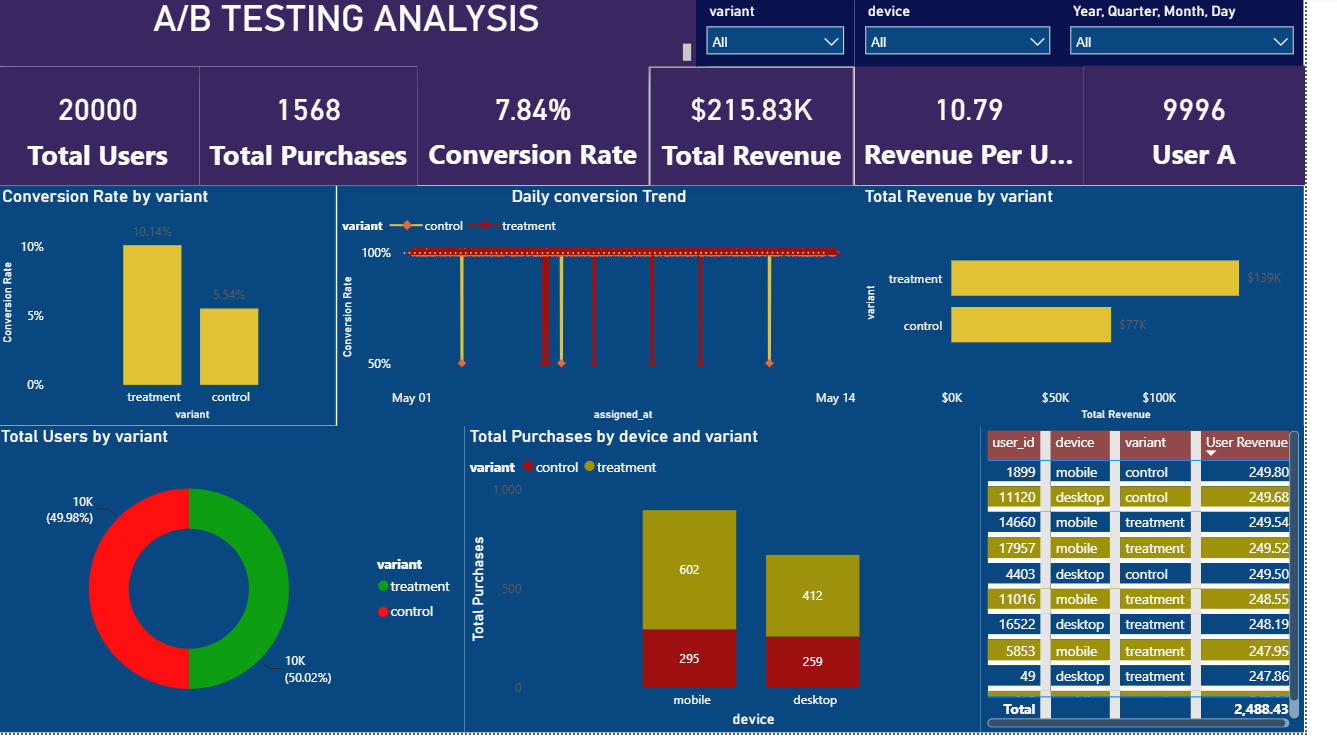

The page's visual inventory and layout, read from the dashboard file:
{"tool":"powerbi","page":{"name":"Page 1","canvas":[1280,720],"ordinal":0},"visuals":[{"type":"textbox","title":"A/B TESTING ANALYSIS ","box":[0,0,685.2,67.6],"z":0},{"type":"card","fields":{"Values":["Measure.Total Users"]},"box":[0,68.5,199.3,116.2],"z":1000},{"type":"card","fields":{"Values":["Measure.Total Purchases"]},"box":[199.3,68.5,212.8,116.2],"z":2000},{"type":"card","fields":{"Values":["Measure.Conversion Rate"]},"box":[412.6,67.8,226.5,116.9],"z":3000},{"type":"card","fields":{"Values":["Measure.Total Revenue"]},"box":[639.5,68.5,199.3,116.2],"z":4000},{"type":"card","fields":{"Values":["Measure.Revenue Per User"]},"box":[839.7,67.8,223.6,116.9],"z":5000},{"type":"slicer","fields":{"Values":["experiment.variant"]},"box":[685.2,0,154.8,67.6],"z":6000},{"type":"slicer","fields":{"Values":["event.device"]},"box":[840.1,0,201.1,67.6],"z":7000},{"type":"slicer","fields":{"Values":["event.timestamp.Variation.Date Hierarchy.Year","event.timestamp.Variation.Date Hierarchy.Quarter","event.timestamp.Variation.Date Hierarchy.Month","event.timestamp.Variation.Date Hierarchy.Day"]},"box":[1041.2,0,238.5,67.6],"z":8000},{"type":"card","fields":{"Values":["Measure.User A"]},"box":[1063.3,67.8,216.4,116.9],"z":9000},{"type":"clusteredColumnChart","fields":{"Y":["Measure.Conversion Rate"],"Category":["experiment.variant"]},"box":[1.2,184.6,331.4,234.8],"z":10000},{"type":"lineChart","title":"Daily conversion Trend","fields":{"Series":["experiment.variant"],"Category":["experiment.assigned_at"],"Y":["Measure.Conversion Rate"]},"box":[333.3,184.7,512.2,235.2],"z":11000},{"type":"clusteredBarChart","fields":{"Category":["experiment.variant"],"Y":["Measure.Total Revenue"]},"box":[845.5,184.7,434.3,235.2],"z":12000},{"type":"donutChart","fields":{"Category":["experiment.variant"],"Y":["Measure.Total Users"]},"box":[0,419.8,458.8,300.1],"z":13000},{"type":"columnChart","fields":{"Category":["event.device"],"Series":["experiment.variant"],"Y":["Measure.Total Purchases"]},"box":[458.8,419.8,505,300.1],"z":14000},{"type":"tableEx","fields":{"Values":["event.user_id","event.device","experiment.variant","Measure.User Revenue"]},"box":[963.8,419.8,316,300.1],"z":15000}]}

Visuals, with their boxes in screenshot pixels (x1, y1, x2, y2), scaled from the page's 1280x720 canvas onto the 1337x742 screenshot:
"A/B TESTING ANALYSIS " textbox: pyautogui.locateOnScreen(0, 0, 716, 70)
card - Measure.Total Users: pyautogui.locateOnScreen(0, 71, 208, 190)
card - Measure.Total Purchases: pyautogui.locateOnScreen(208, 71, 430, 190)
card - Measure.Conversion Rate: pyautogui.locateOnScreen(431, 70, 668, 190)
card - Measure.Total Revenue: pyautogui.locateOnScreen(668, 71, 876, 190)
card - Measure.Revenue Per User: pyautogui.locateOnScreen(877, 70, 1111, 190)
slicer - experiment.variant: pyautogui.locateOnScreen(716, 0, 877, 70)
slicer - event.device: pyautogui.locateOnScreen(878, 0, 1088, 70)
slicer - event.timestamp.Variation.Date Hierarchy.Year x event.timestamp.Variation.Date Hierarchy.Quarter: pyautogui.locateOnScreen(1088, 0, 1336, 70)
card - Measure.User A: pyautogui.locateOnScreen(1111, 70, 1336, 190)
clusteredColumnChart - Measure.Conversion Rate x experiment.variant: pyautogui.locateOnScreen(1, 190, 347, 432)
"Daily conversion Trend" lineChart: pyautogui.locateOnScreen(348, 190, 883, 433)
clusteredBarChart - experiment.variant x Measure.Total Revenue: pyautogui.locateOnScreen(883, 190, 1336, 433)
donutChart - experiment.variant x Measure.Total Users: pyautogui.locateOnScreen(0, 433, 479, 741)
columnChart - event.device x experiment.variant: pyautogui.locateOnScreen(479, 433, 1007, 741)
tableEx - event.user_id x event.device: pyautogui.locateOnScreen(1007, 433, 1336, 741)
